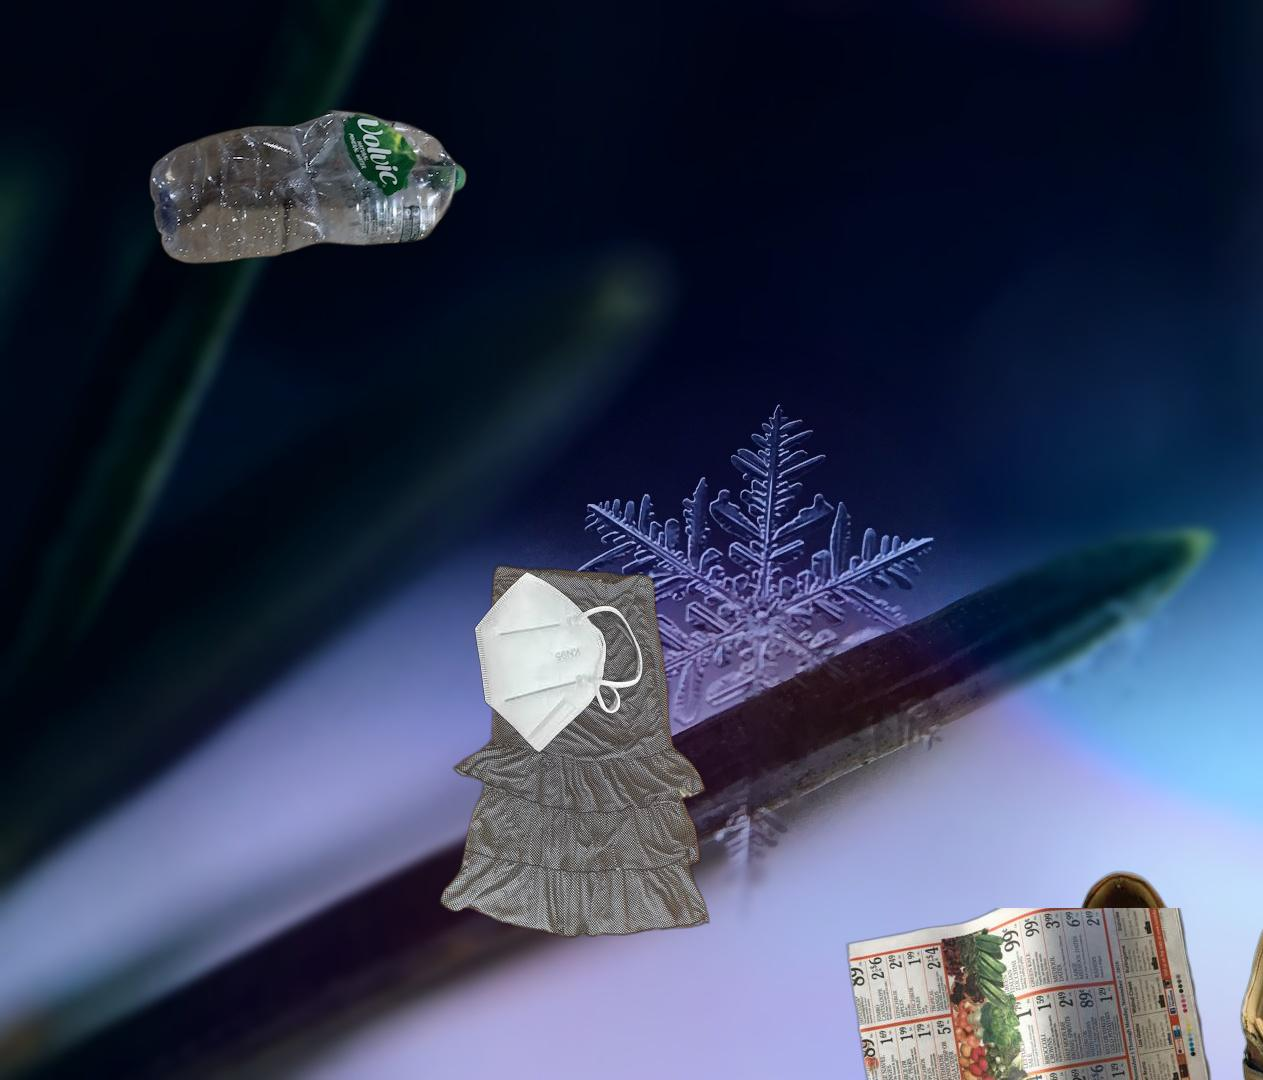clothes: (436, 562, 713, 942)
paper: (843, 907, 1241, 1080)
plastic-bottles: (144, 107, 471, 268)
shoes: (1041, 867, 1263, 1080)
trash: (472, 569, 646, 755)
